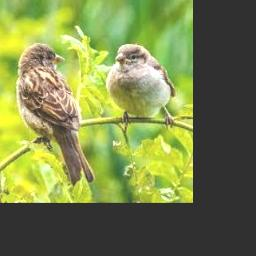Sparrow: (17, 42, 95, 185), (106, 44, 177, 129)
